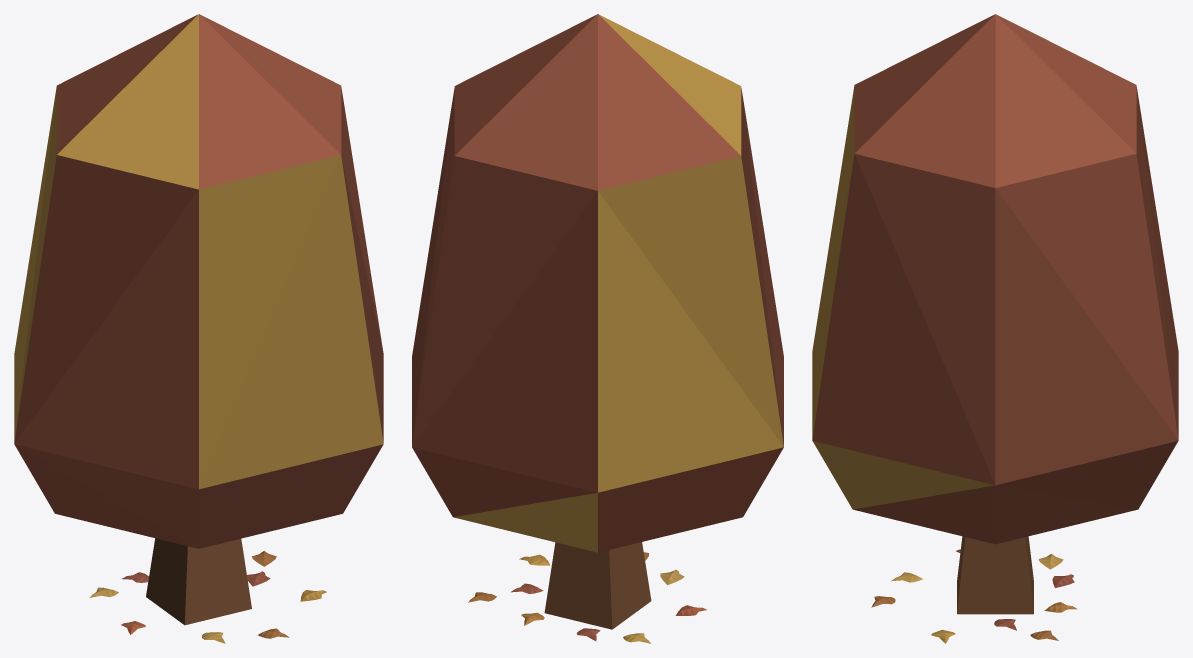
The model's file is tree_fat_autumn.glb.
3 renders of one model, left to right at view 1: azimuth 30°, elevation 25°; view 2: azimuth 150°, elevation 25°; view 3: azimuth 270°, elevation 25°, orthographic.
Visible parts, largest first — view 1: geometry; view 2: geometry; view 3: geometry.
Boxes of the visible parts, x1=… form: geometry: x1=14, y1=14, x2=383, y2=643; geometry: x1=412, y1=14, x2=783, y2=643; geometry: x1=812, y1=14, x2=1178, y2=643.
Bounding box in the file's own units: 0.755 × 1.15 × 0.6538.
